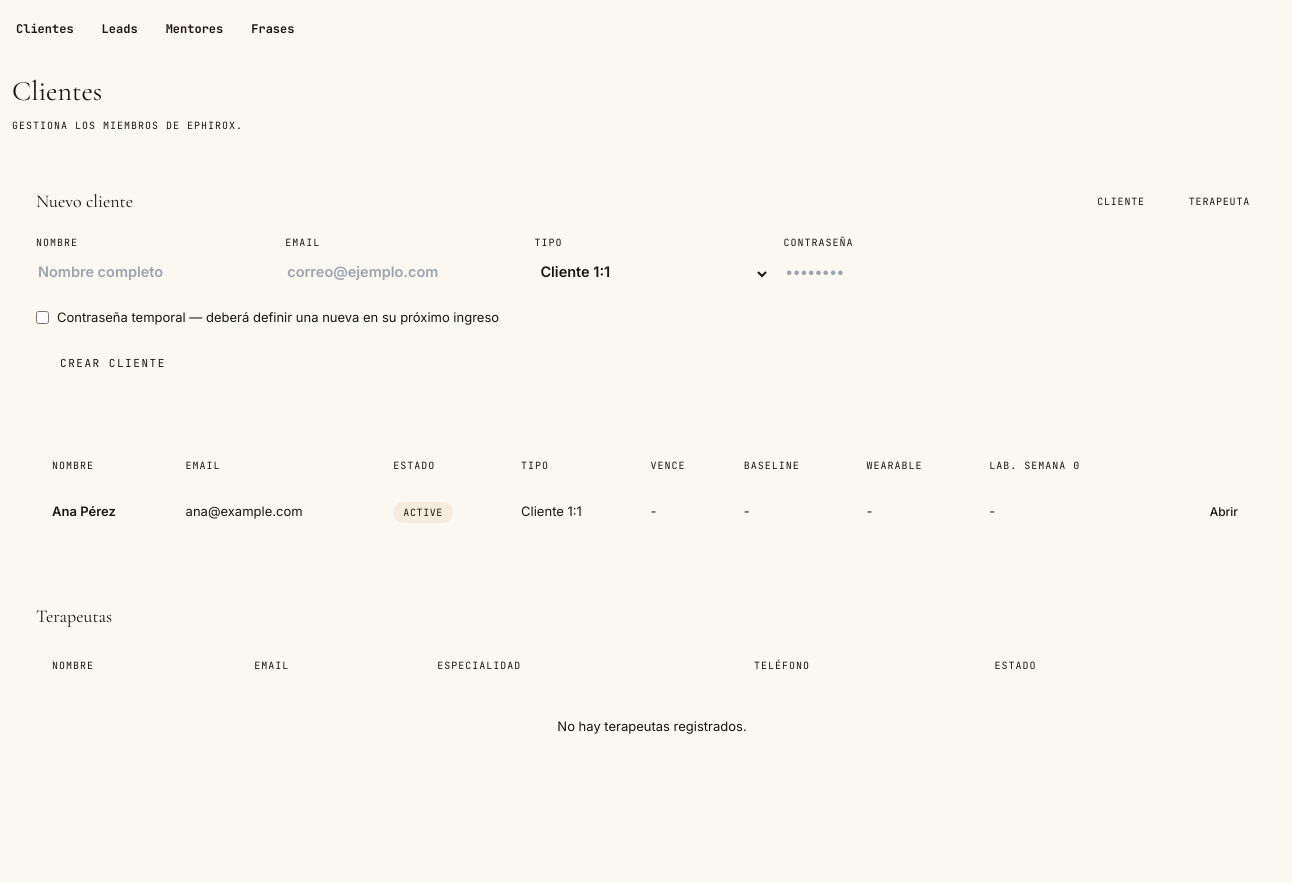
Scenario: AdminClientsPage › shows Leads, Mentores and Frases as additional tabs, in that order, to the right of Clientes
Expected: the text "Ana Pérez" is shown, [52,503,116,519]
Click the button "Leads": [120, 29] box [98,12,142,46]
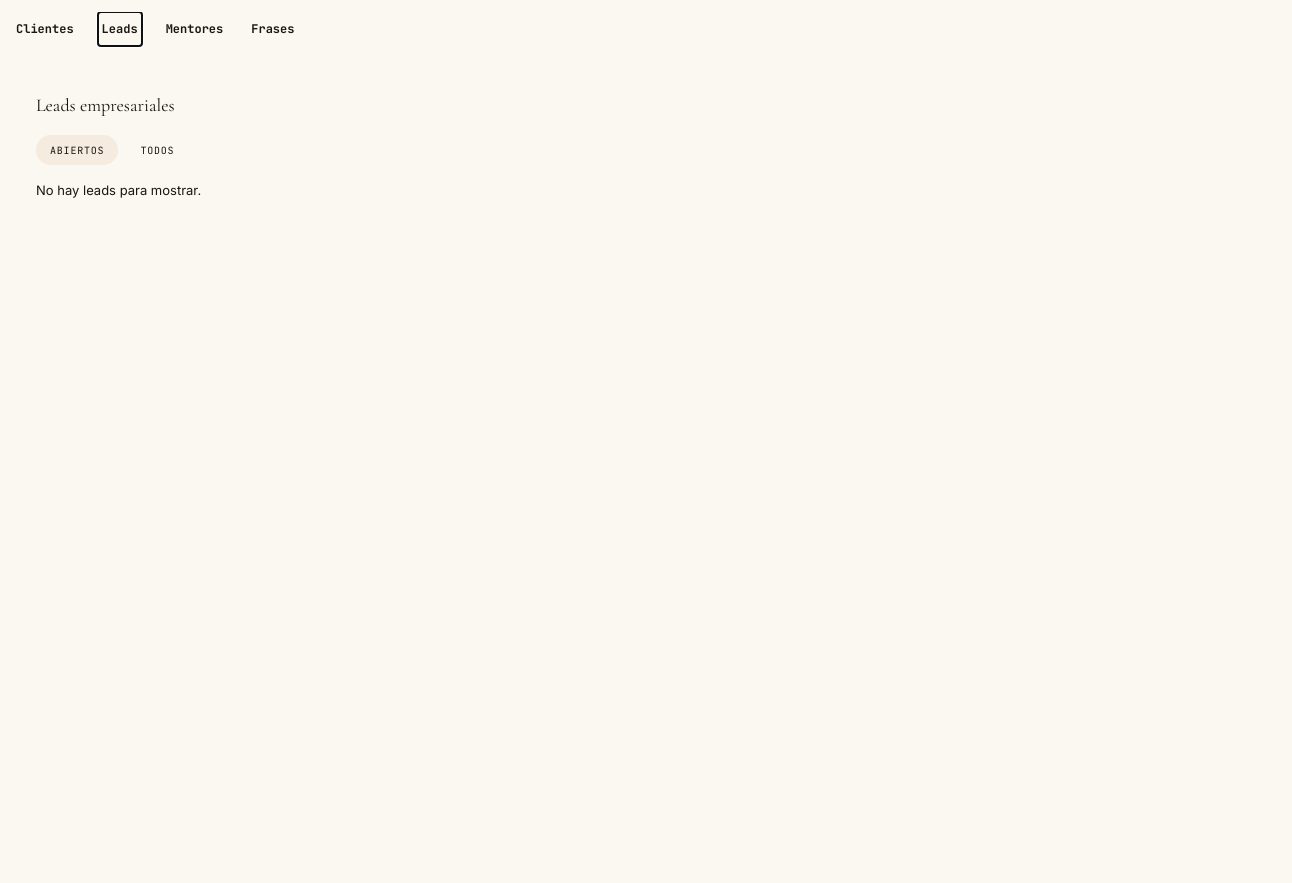
Result: the heading "Leads empresariales" is shown at [36,94,175,116]
Click the button "Mentores": [194, 29] box [162,12,227,46]
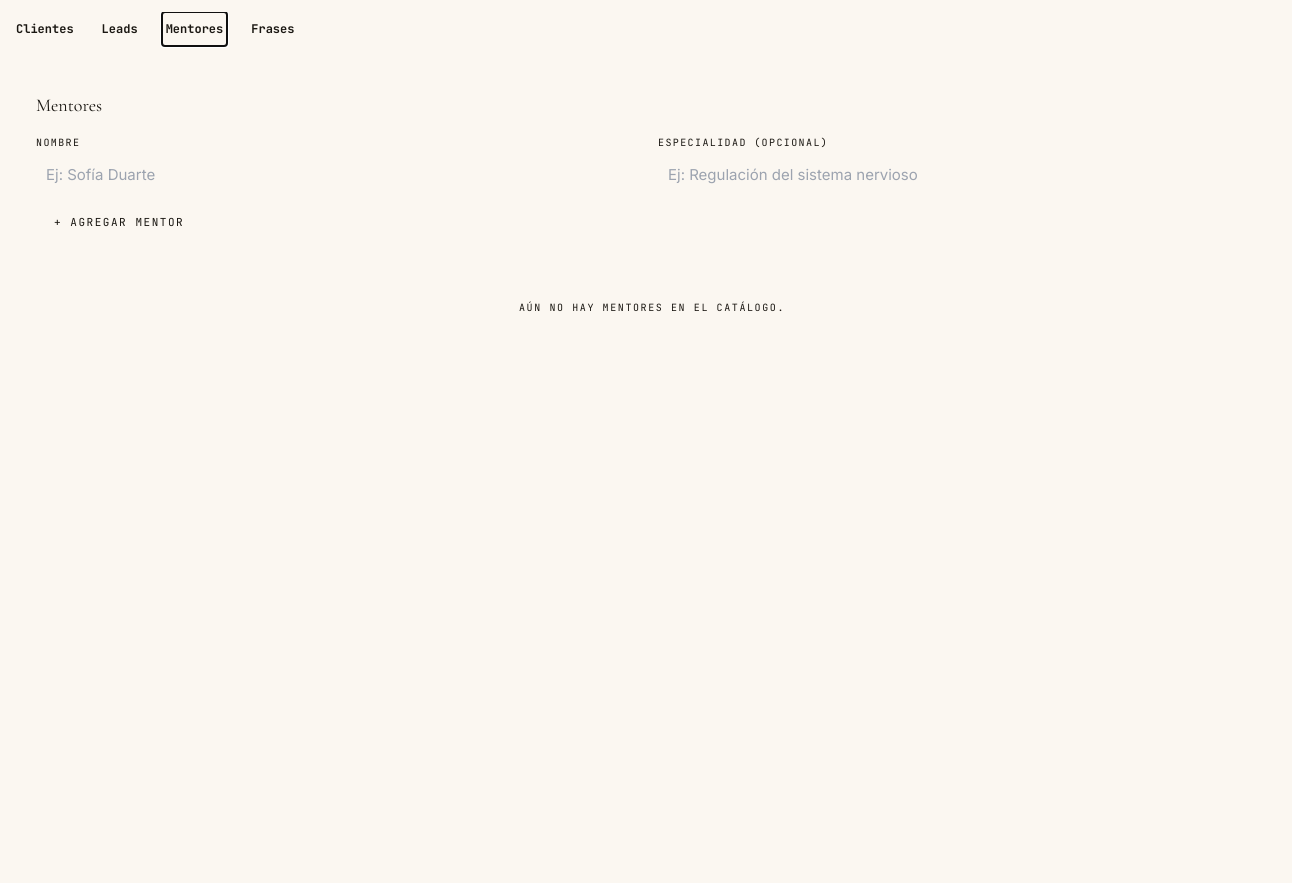
Result: the heading "Mentores" is shown at [36,94,102,116]
Click the button "Frases": [273, 29] box [247,12,298,46]
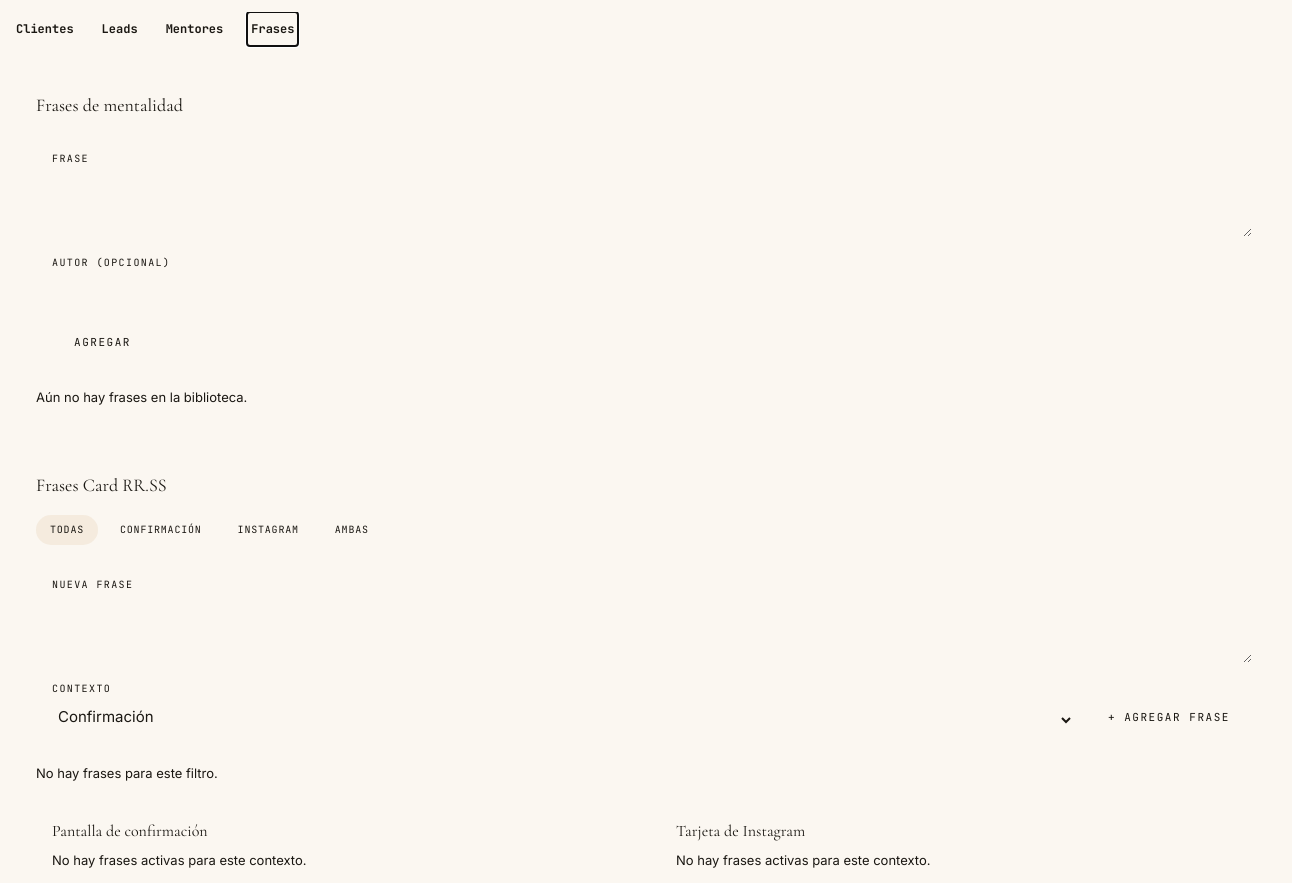
Result: the heading "Frases de mentalidad" is shown at [36,94,183,116]
Result: the heading "Frases Card RR.SS" is shown at [36,474,167,496]
Click the button "Clientes": [45, 29] box [12,12,78,46]
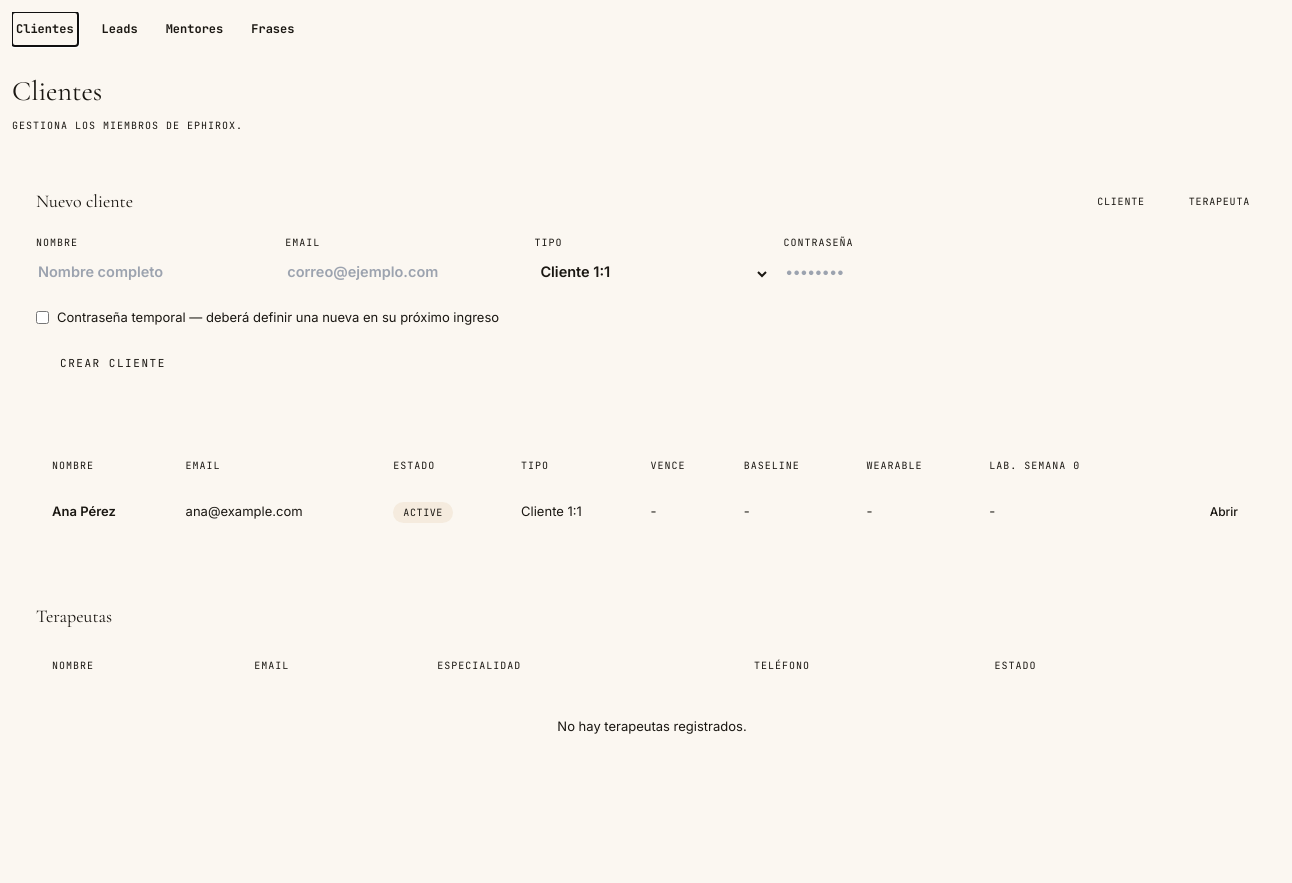
Result: the text "Ana Pérez" is shown at [52,503,116,519]
